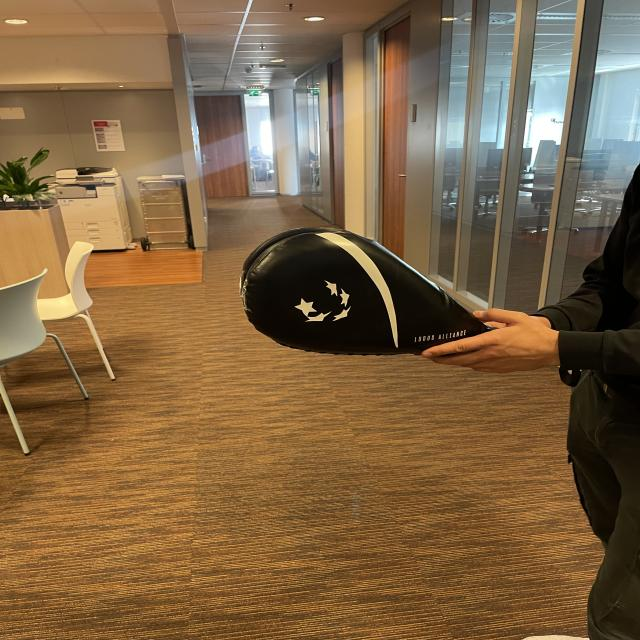paddle: (241, 226, 487, 358)
